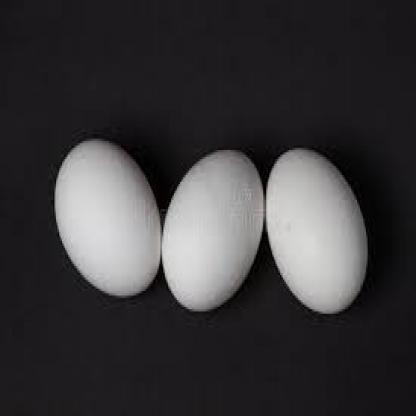egg: (265, 148, 369, 316), (53, 136, 162, 296), (162, 147, 265, 313)
